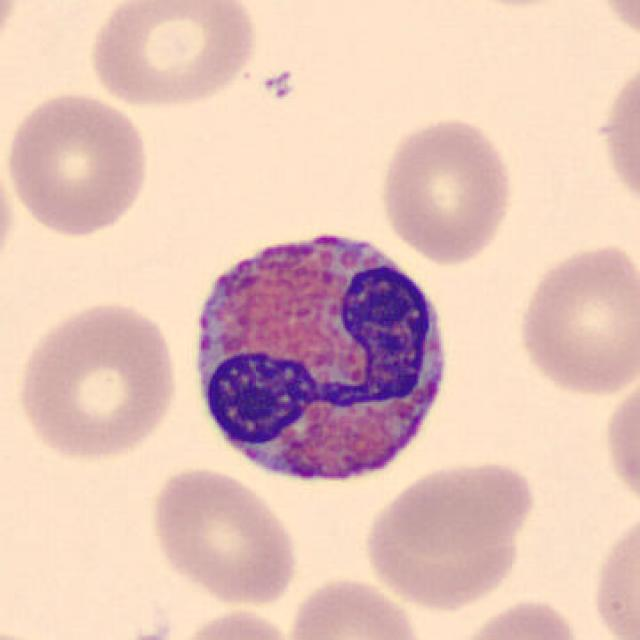Eosinophil: (180, 207, 464, 502)
RBC: (11, 294, 183, 466), (357, 458, 535, 612), (2, 86, 153, 240), (144, 464, 302, 608), (375, 113, 517, 266), (512, 236, 638, 400), (84, 0, 263, 111), (283, 573, 430, 640), (594, 51, 640, 219), (588, 502, 640, 640), (448, 594, 587, 640), (599, 371, 640, 518), (167, 604, 298, 640), (0, 136, 20, 287), (586, 0, 640, 46), (0, 0, 21, 69), (0, 624, 66, 640)
